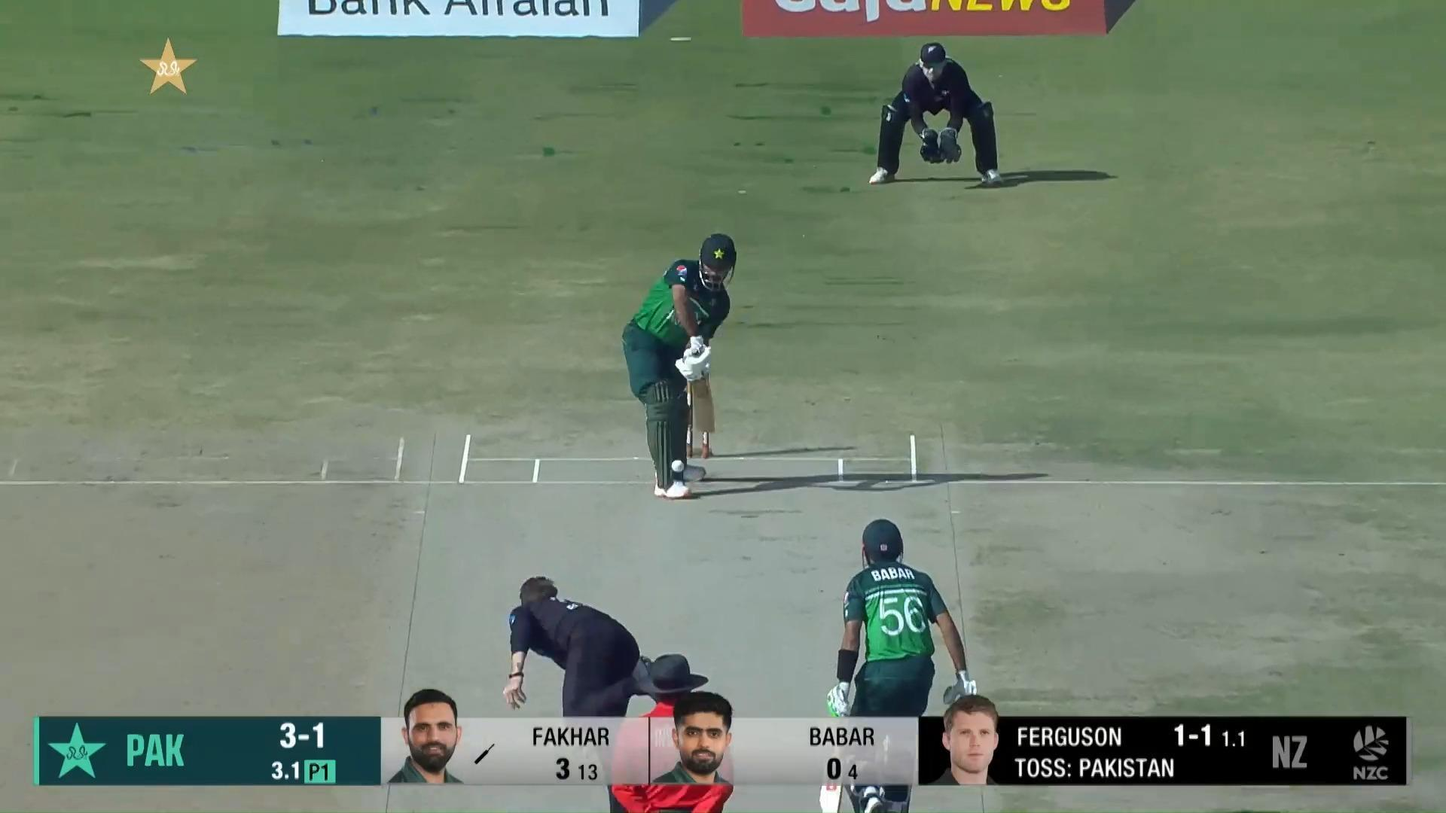BM 1: (622, 234, 738, 500)
BO: (502, 574, 661, 717)
